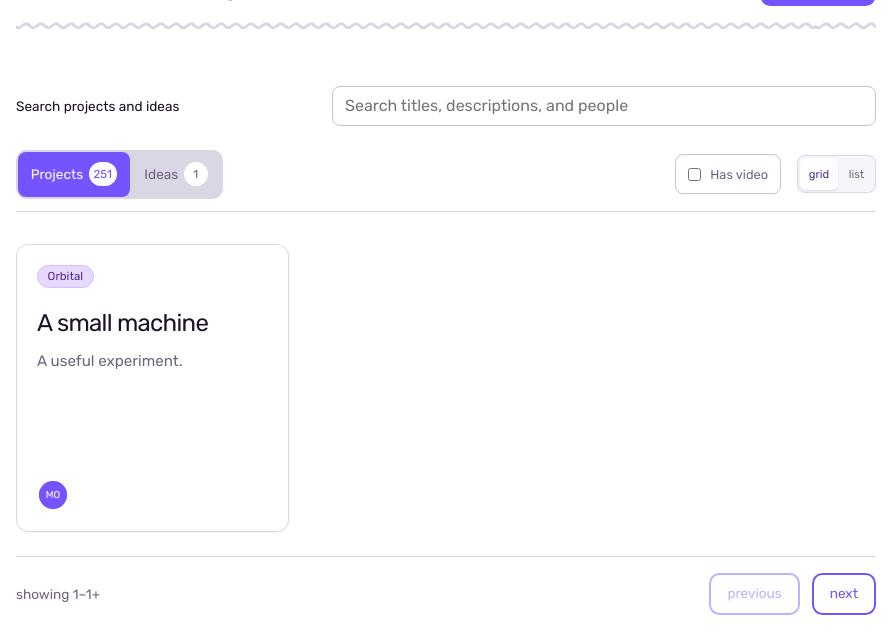
clickable project routes › preserves filter focus when it supersedes a pending page fetch
(page scrolled)
Expected: the heading "A small machine" is shown, [37,309,208,337]
Click the button "next": (844, 594) [812,573,876,615]
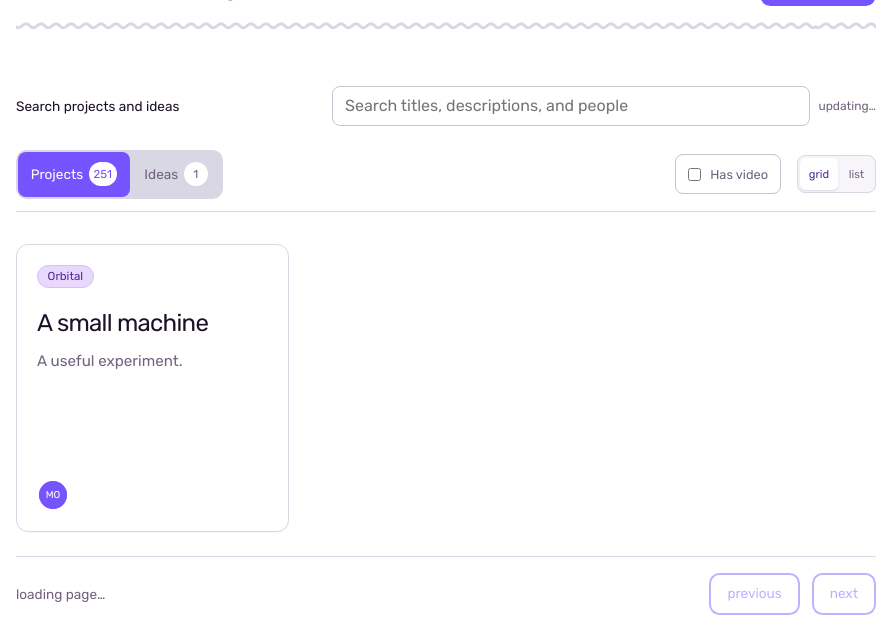
Click the button "Ideas 1": (176, 174) [132,152,220,197]
(page scrolled)
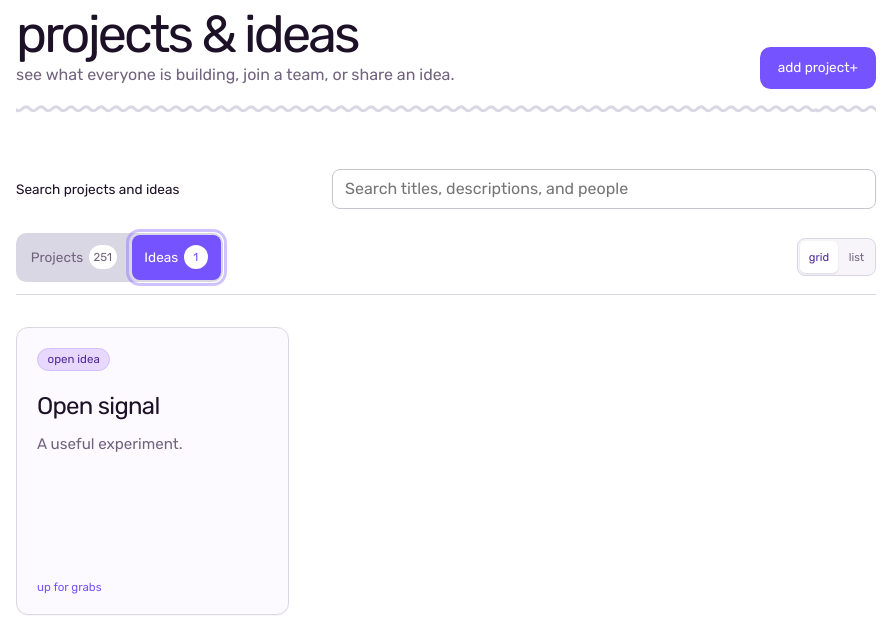
Expected: the heading "Open signal" is shown, [37,392,160,420]
